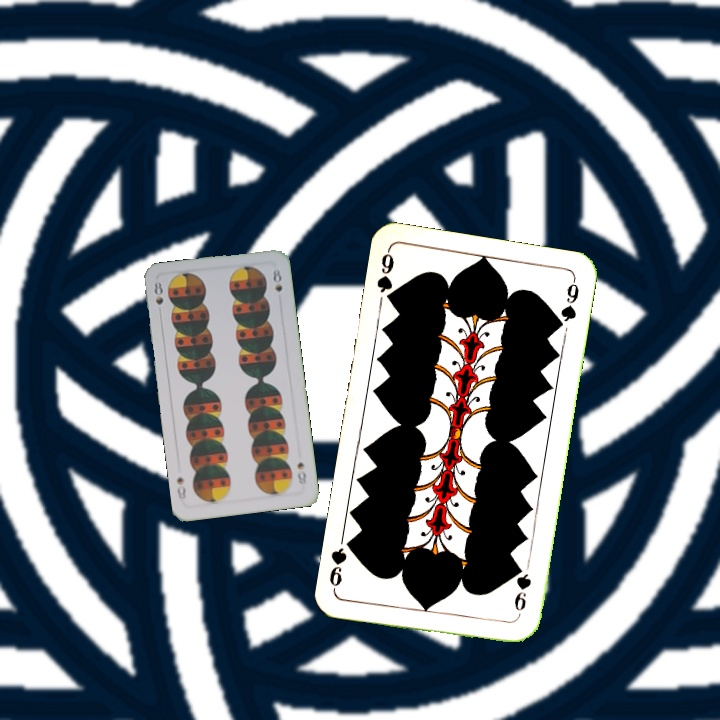G9: (372, 246, 398, 307), (510, 561, 534, 621)
S8: (293, 458, 309, 487), (150, 278, 166, 307)
